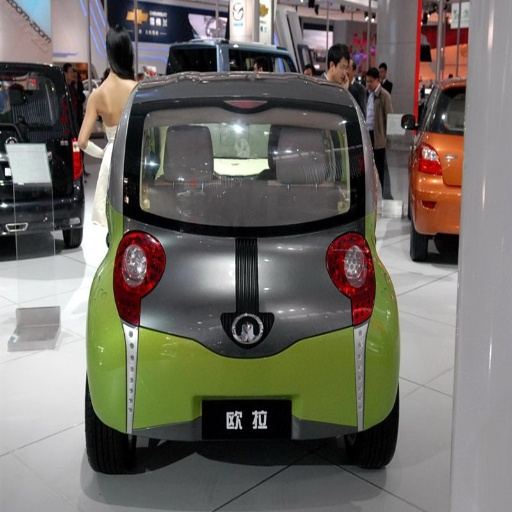back_right_light: (330, 250, 371, 326)
tailgate: (230, 103, 337, 172), (229, 164, 339, 220)
trunk: (143, 218, 348, 399), (170, 97, 300, 136), (184, 175, 276, 213)
